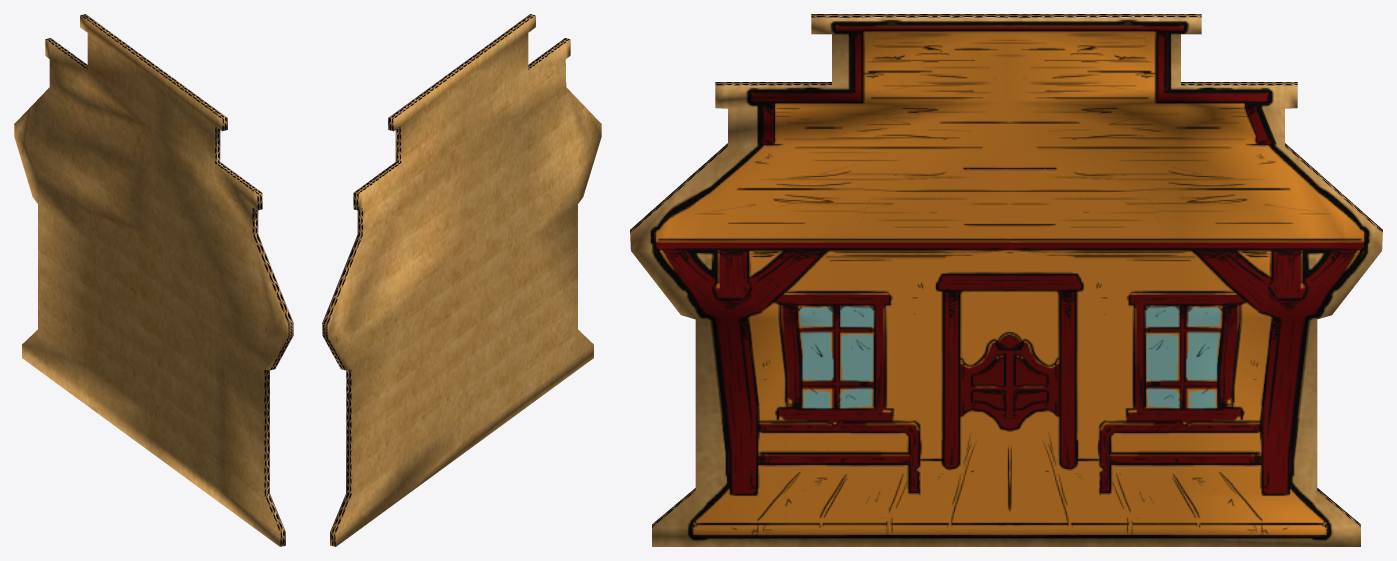
File: AST_GRAPH_Saloon.fbx
The picture shows the model from 3 angles, left to right: view 1: azimuth 30°, elevation 25°; view 2: azimuth 150°, elevation 25°; view 3: azimuth 270°, elevation 25°; orthographic projection. The views are drawn at different scales.
Visible parts, largest first — view 1: Plane.001; view 2: Plane.001; view 3: Plane.001.
Part boxes in pixels (bbox=[...]): Plane.001: bbox=[14, 14, 293, 546]; Plane.001: bbox=[322, 14, 601, 546]; Plane.001: bbox=[630, 14, 1382, 546].
Bounding box in the file's own units: 1.2 × 76.95 × 99.22.
